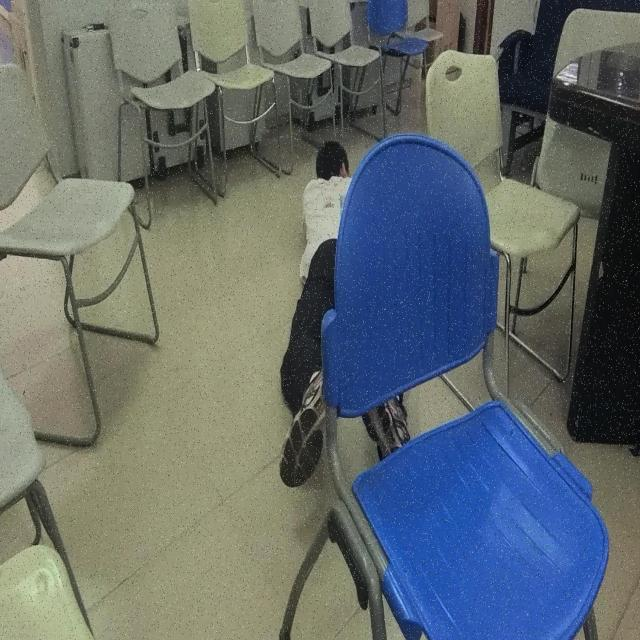fall: (279, 136, 412, 510)
